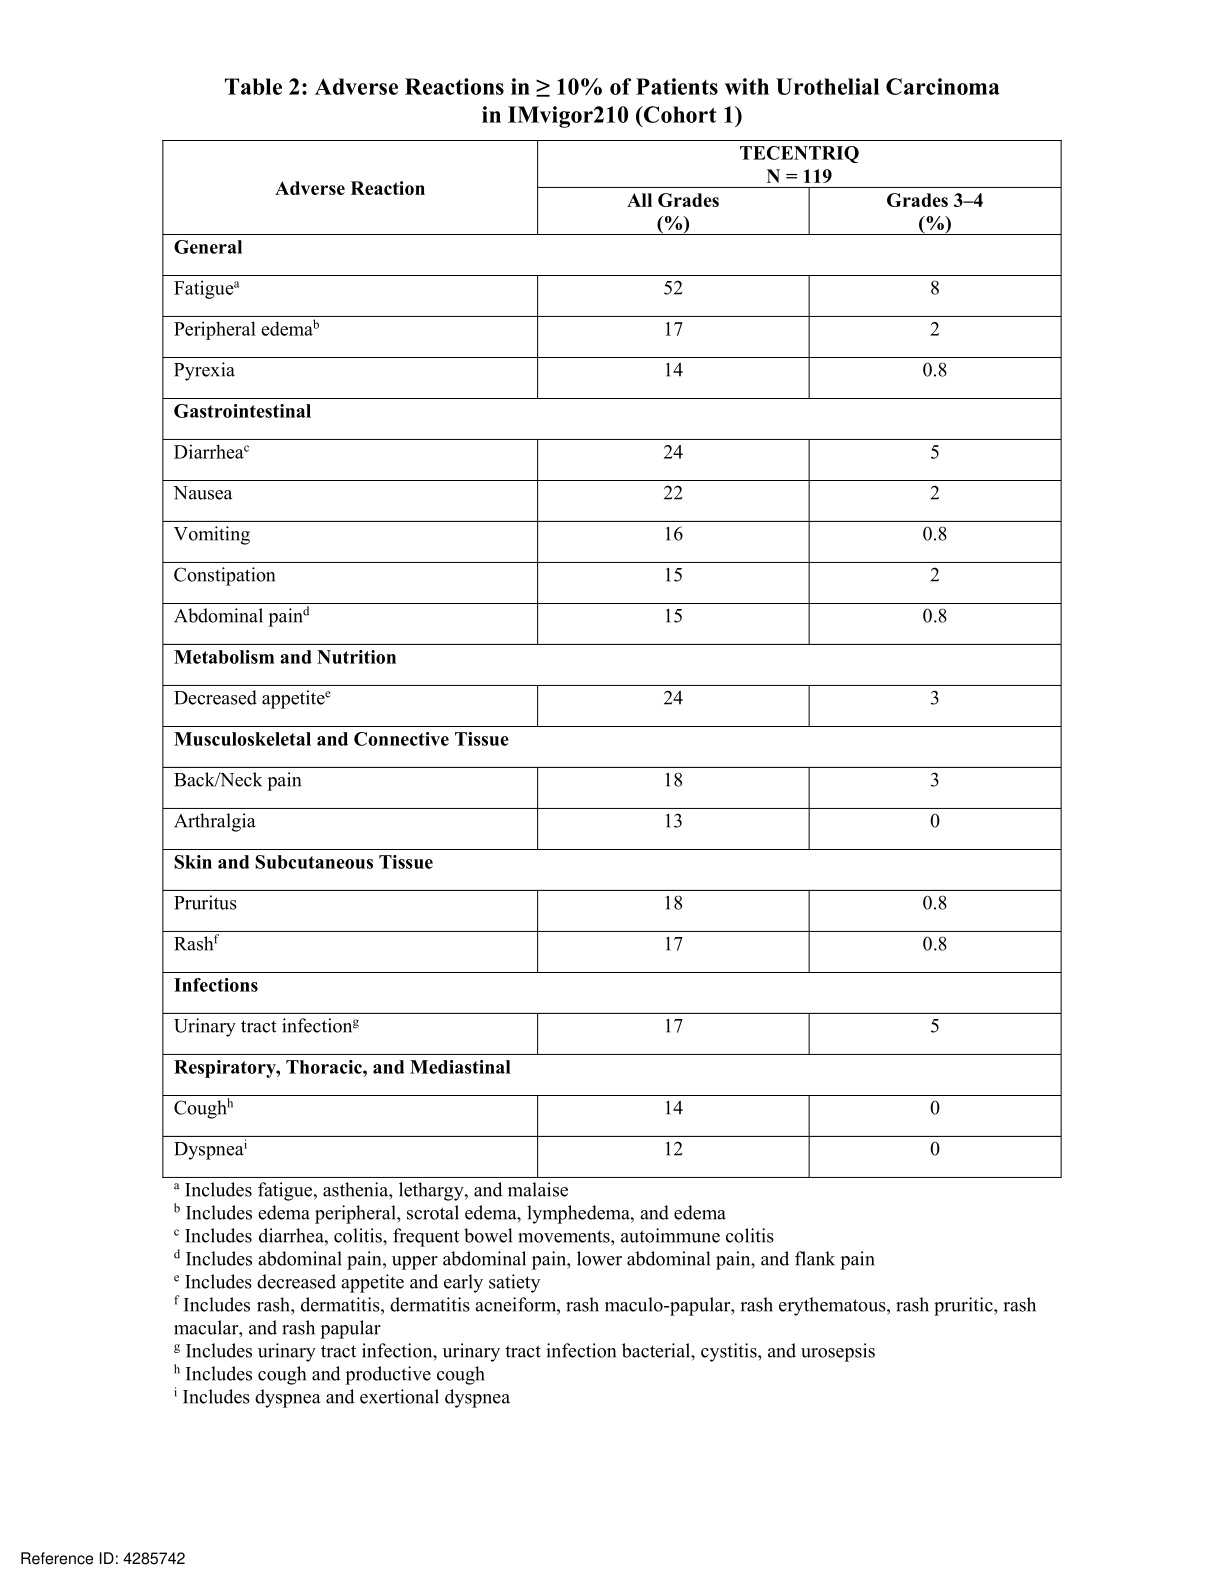merged_cells: (162, 138, 1062, 1179)
